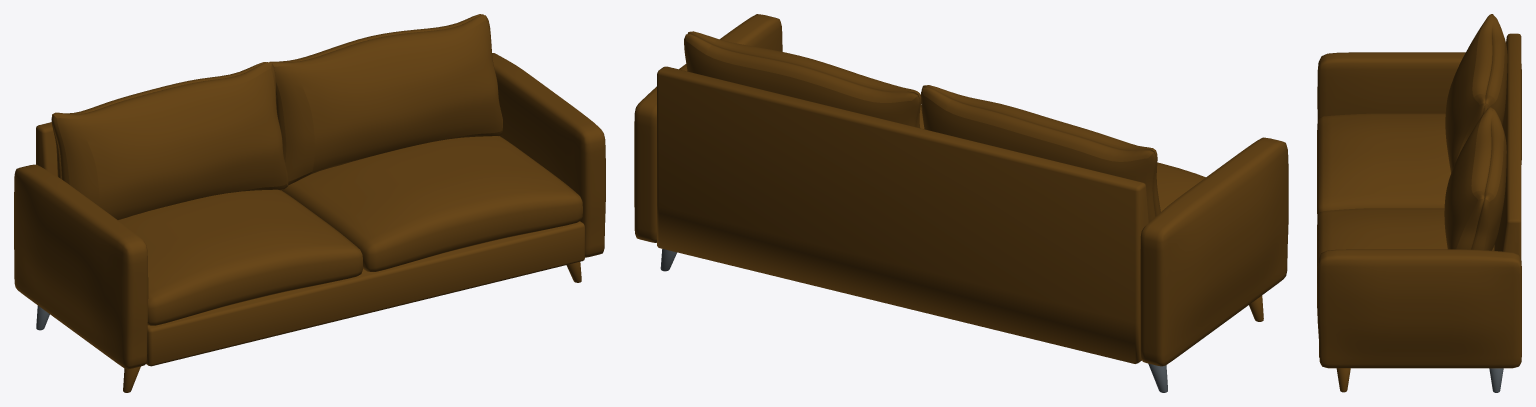
The model's file is Sofa1.glb.
The picture shows the model from 3 angles, left to right: view 1: azimuth 30°, elevation 25°; view 2: azimuth 150°, elevation 25°; view 3: azimuth 270°, elevation 25°; orthographic projection. The views are drawn at different scales.
Parts seen in each view (by area): view 1: Cube.009, Cylinder.004; view 2: Cube.009, Cylinder.006; view 3: Cube.009, Cylinder.006, Cylinder.004.
Boxes of the visible parts, box(x1,y1,x2,y2) form: Cube.009: box(14, 14, 605, 369); Cylinder.004: box(123, 262, 581, 392); Cube.009: box(634, 14, 1288, 366); Cylinder.006: box(660, 249, 1167, 392); Cube.009: box(1317, 14, 1521, 368); Cylinder.006: box(1489, 368, 1503, 392); Cylinder.004: box(1336, 368, 1350, 392).
Bounding box in the file's own units: 0.9343 × 0.393 × 0.3793.
